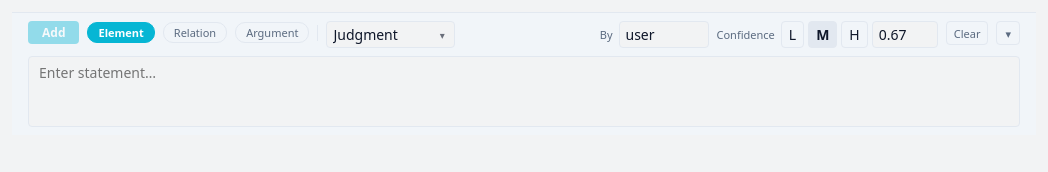
Test case: minimising the bar › folds the form away, leaving the way back
Click the button named "Minimise the add bar" at (1008, 33), box top-left (996, 21), bottom-right (1020, 45)
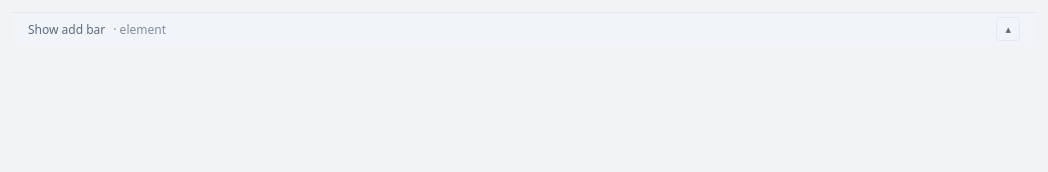
Now the text box is gone
Now the button "Show add bar · element ▴" is shown, box top-left (12, 13), bottom-right (1036, 45)
Now the element showing "Show add bar · element ▴" is shown, box top-left (12, 12), bottom-right (1036, 45)
